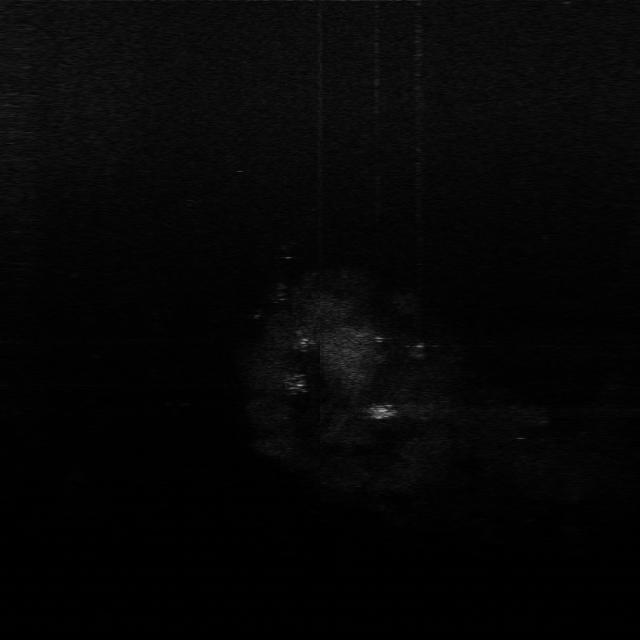rov: (366, 399, 400, 423)
